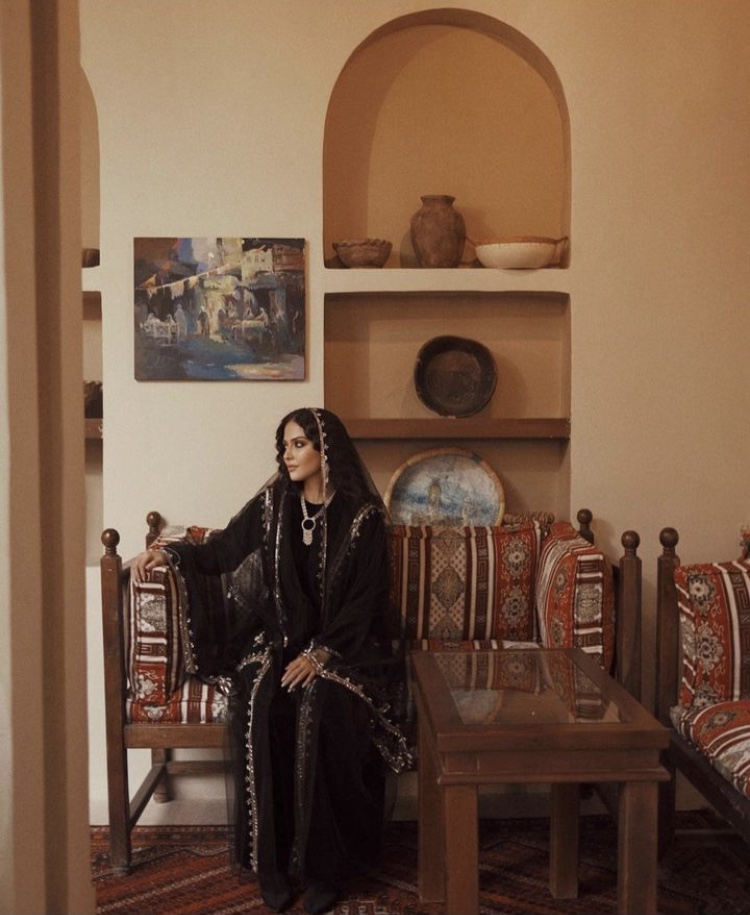Saudi_Founding_Day: (132, 408, 419, 915)
